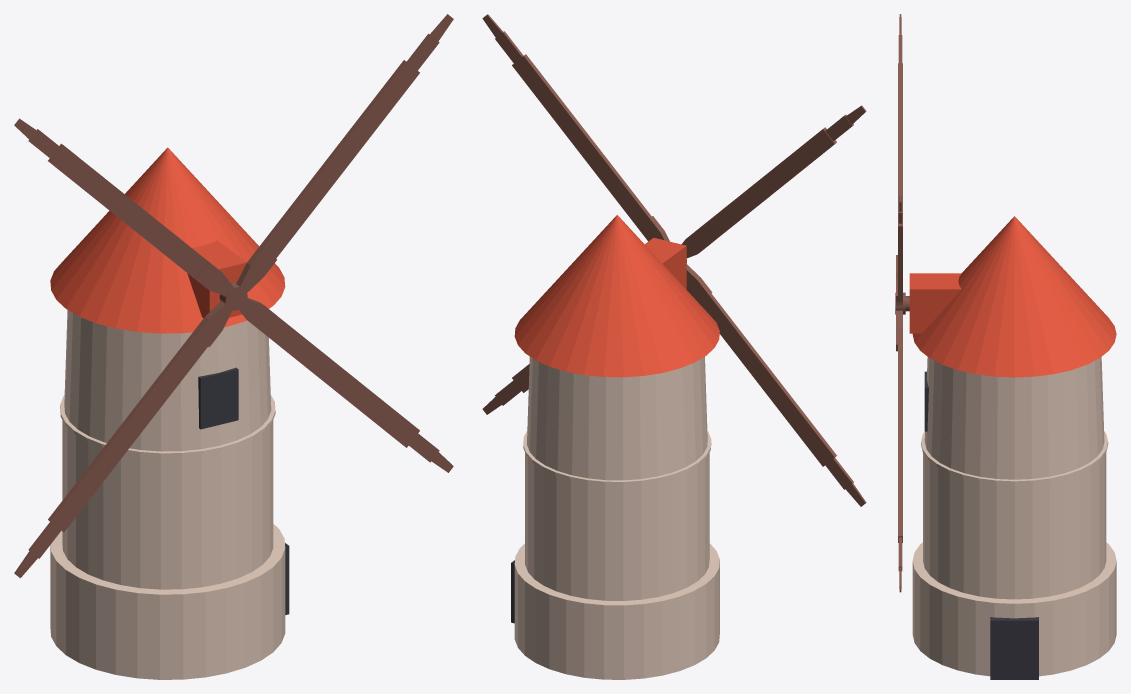
Rendered from windmill.glb.
The picture shows the model from 3 angles, left to right: view 1: azimuth 30°, elevation 25°; view 2: azimuth 150°, elevation 25°; view 3: azimuth 270°, elevation 25°; orthographic projection. The views are drawn at different scales.
Visible parts, largest first — view 1: Cylinder, Cone, Cube.003, Cube.006, Cube.005, Cube.004, Cube.001, Cube.002; view 2: Cylinder, Cone, Cube.003, Cube.006, Cube.005, Cube.002, Cube.004; view 3: Cylinder, Cone, Cube, Cube.002, Cube.004, Cube.005, Cube.003.
Part boxes in pixels (left/top/right/bottom): Cylinder: left=50, top=310, right=285, bottom=679; Cone: left=50, top=147, right=285, bottom=333; Cube.003: left=236, top=14, right=453, bottom=292; Cube.006: left=14, top=301, right=232, bottom=578; Cube.005: left=14, top=118, right=233, bottom=296; Cube.004: left=239, top=297, right=453, bottom=472; Cube.001: left=198, top=367, right=238, bottom=429; Cube.002: left=187, top=240, right=246, bottom=318; Cylinder: left=514, top=356, right=719, bottom=679; Cone: left=514, top=215, right=719, bottom=377; Cube.003: left=482, top=14, right=669, bottom=241; Cube.006: left=686, top=264, right=866, bottom=506; Cube.005: left=681, top=105, right=866, bottom=258; Cube.002: left=645, top=238, right=686, bottom=289; Cube.004: left=482, top=364, right=529, bottom=414; Cylinder: left=912, top=357, right=1116, bottom=676; Cone: left=912, top=216, right=1116, bottom=377; Cube: left=990, top=617, right=1038, bottom=679; Cube.002: left=909, top=273, right=961, bottom=333; Cube.004: left=896, top=310, right=902, bottom=592; Cube.005: left=896, top=14, right=902, bottom=277; Cube.003: left=896, top=195, right=902, bottom=305.
Bounding box in the file's own units: 4.3 × 5.74 × 2.17.
